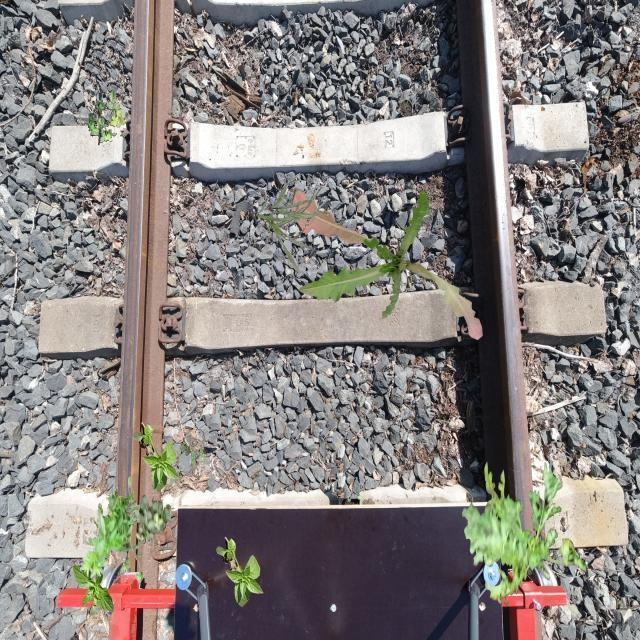Plant: (290, 189, 482, 341), (462, 460, 587, 607), (80, 476, 144, 584), (256, 180, 329, 274), (216, 537, 264, 608), (133, 422, 181, 493), (72, 563, 114, 616), (129, 495, 172, 545), (88, 91, 126, 146), (180, 438, 208, 468)
